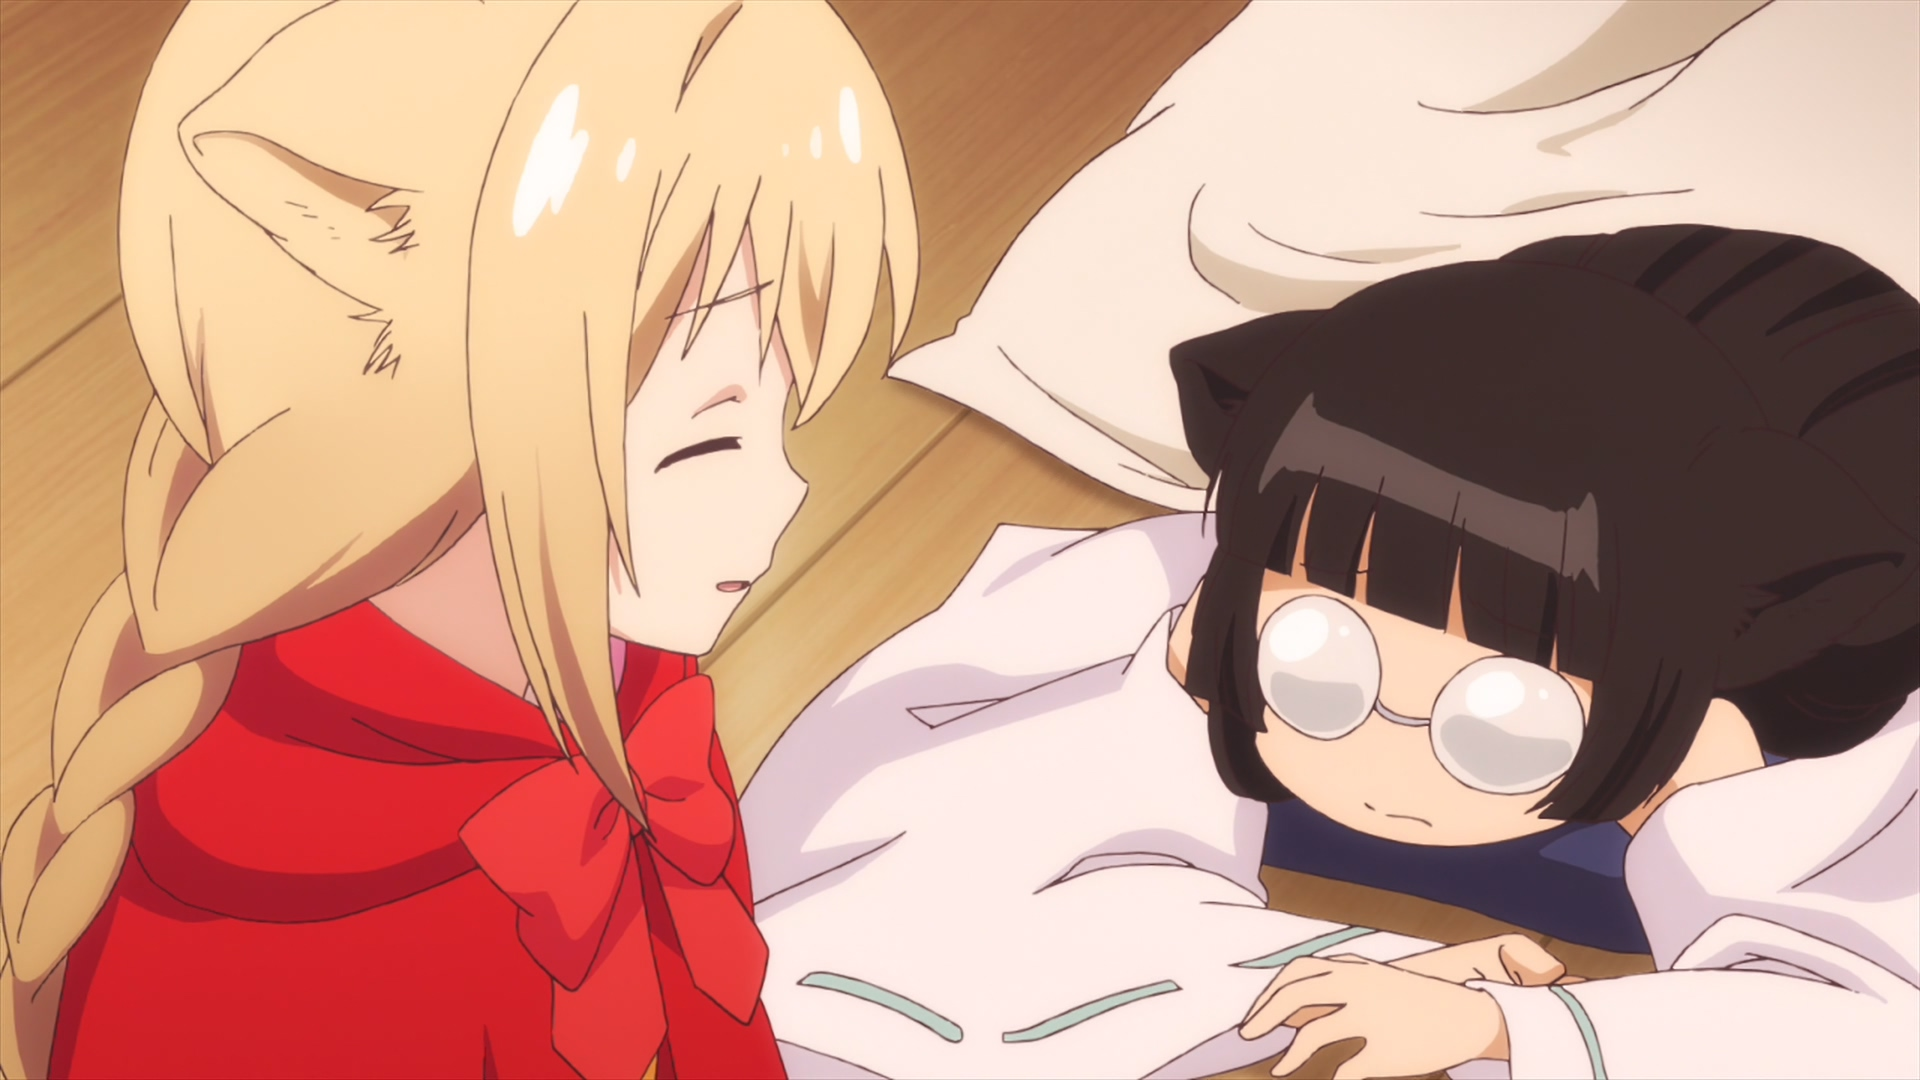其他: (737, 222, 1920, 1080)
柚: (1, 1, 920, 1080)
